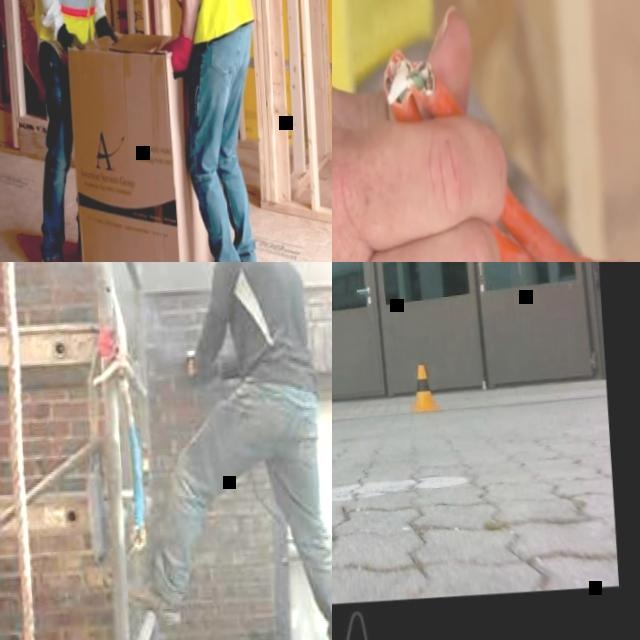NO-Safety Vest: (220, 262, 322, 402)
Person: (88, 262, 332, 640), (332, 0, 640, 262), (140, 0, 280, 262), (7, 0, 143, 262)
Safety Cone: (407, 363, 441, 412)
Safety Vest: (332, 0, 447, 219), (22, 0, 114, 58)
